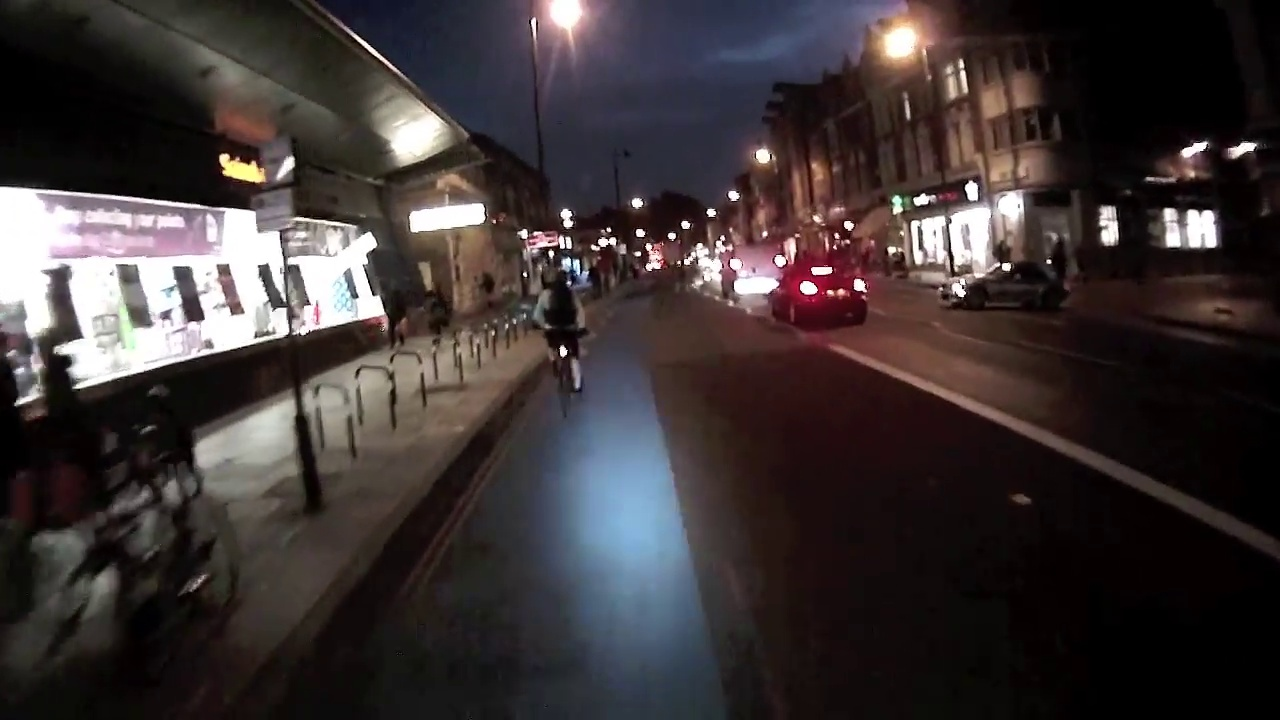cyclist_back: (534, 259, 592, 419)
